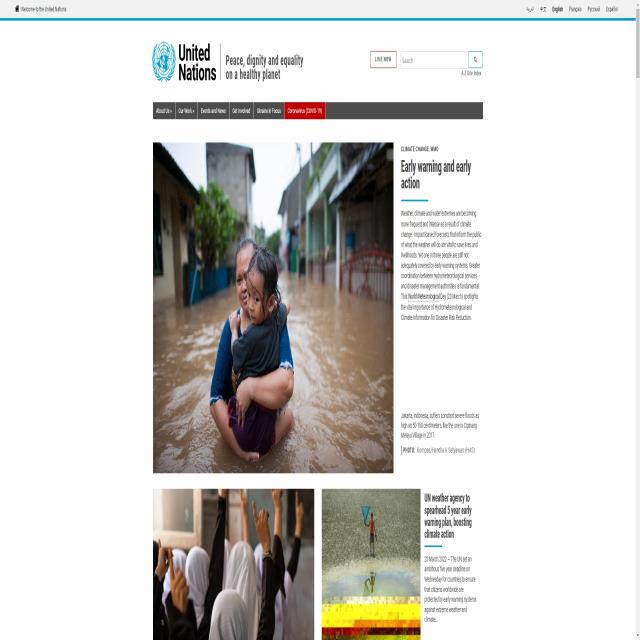search: (400, 48, 484, 71)
tab-bar: (154, 99, 328, 122), (525, 1, 620, 14)
